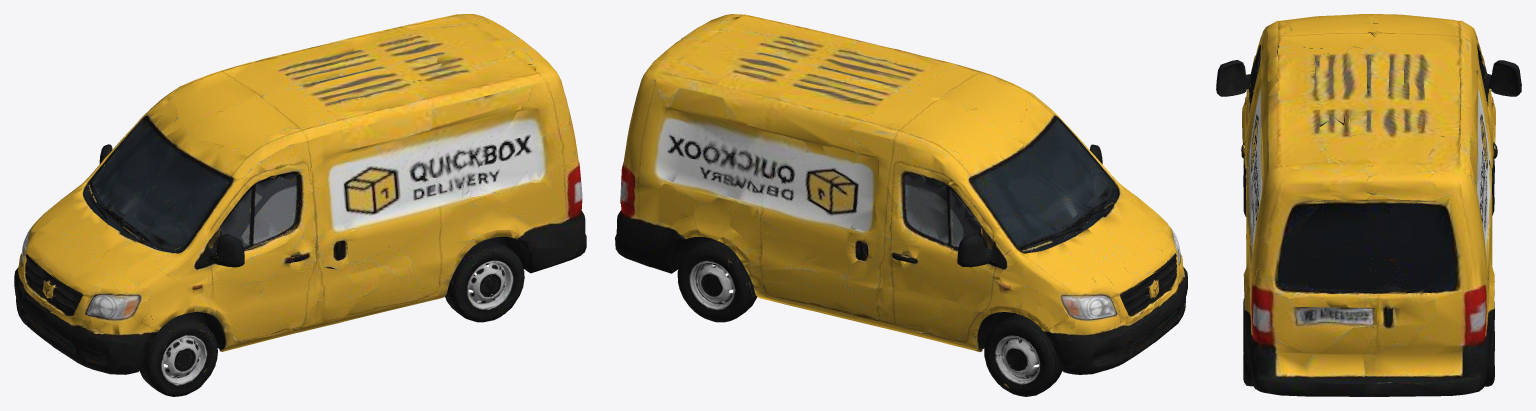
Rendered from van_delivery.glb.
3 renders of one model, left to right at view 1: azimuth 30°, elevation 25°; view 2: azimuth 150°, elevation 25°; view 3: azimuth 270°, elevation 25°, orthographic. The views are drawn at different scales.
Parts seen in each view (by area): view 1: Mesh_0; view 2: Mesh_0; view 3: Mesh_0.
Boxes of the visible parts, box(x1,y1,x2,y2) form: Mesh_0: box(14, 14, 586, 396); Mesh_0: box(615, 14, 1187, 396); Mesh_0: box(1216, 14, 1521, 396).
Size of the model in its own units: 4.4 by 1.91 by 2.06.
1 material, 1 textured.
